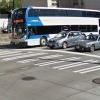Bus: (4, 3, 99, 47)
